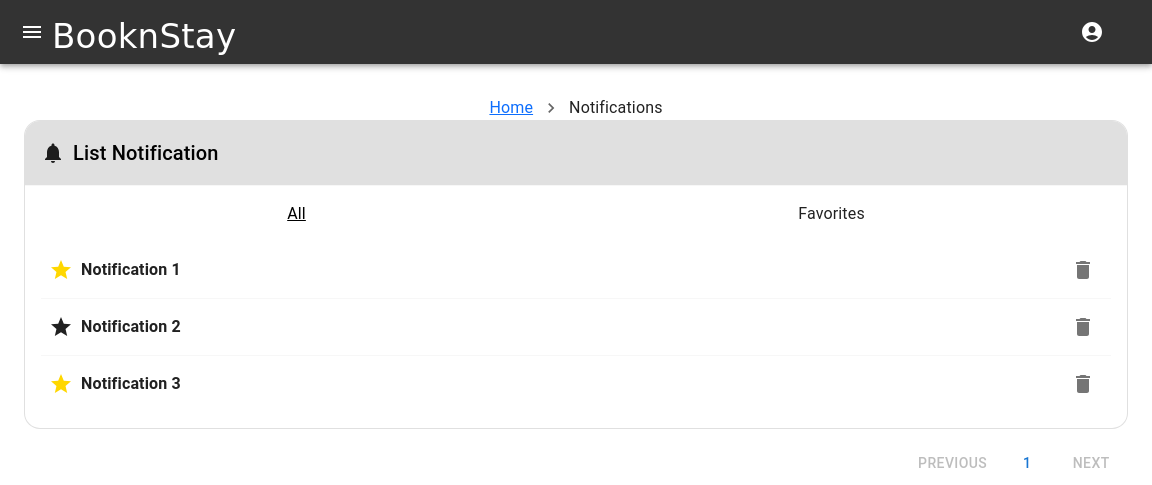
Test: HotelNotifications › filters notifications correctly
The width and height of the screenshot is (1152, 485).
expect the text "Notification 1" is shown: met, box [81,258,181,282]
expect the text "Notification 2" is shown: met, box [81,315,181,339]
What coordinates should you click on to do the following:
click the link "Favorites"
I would click on:
 (832, 214)
Its box is [798,202,865,226].
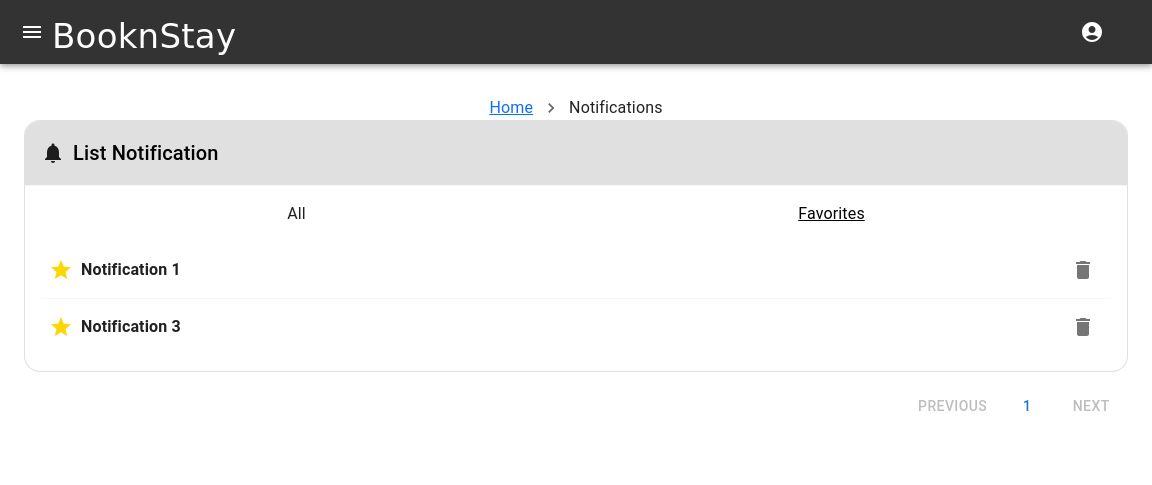
expect the text "Notification 1" is shown: met, box [81,258,181,282]
expect the text "Notification 3" is shown: met, box [81,315,181,339]
expect the text "Notification 2" is gone: met
